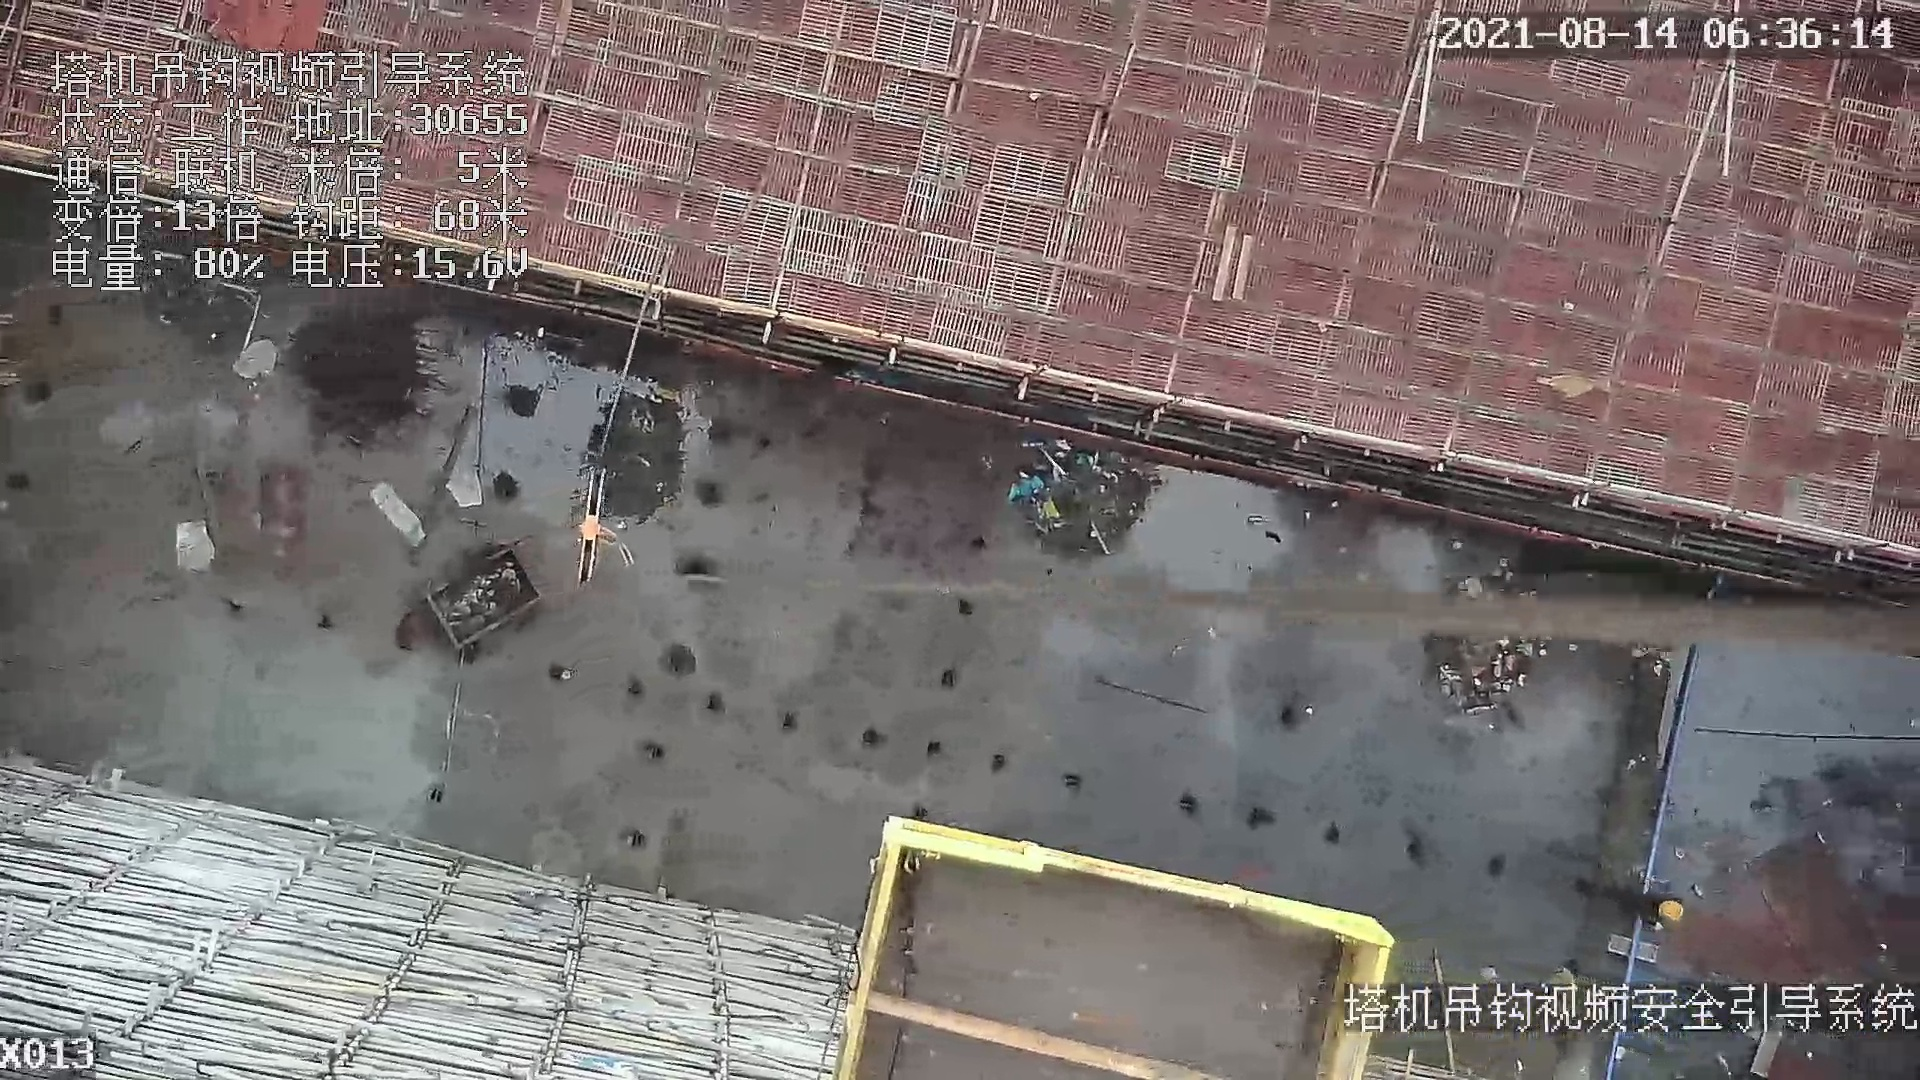helmet: (1658, 901, 1686, 928)
hook: (578, 465, 614, 590)
hopper: (417, 542, 554, 665)
person: (1617, 872, 1687, 937)
